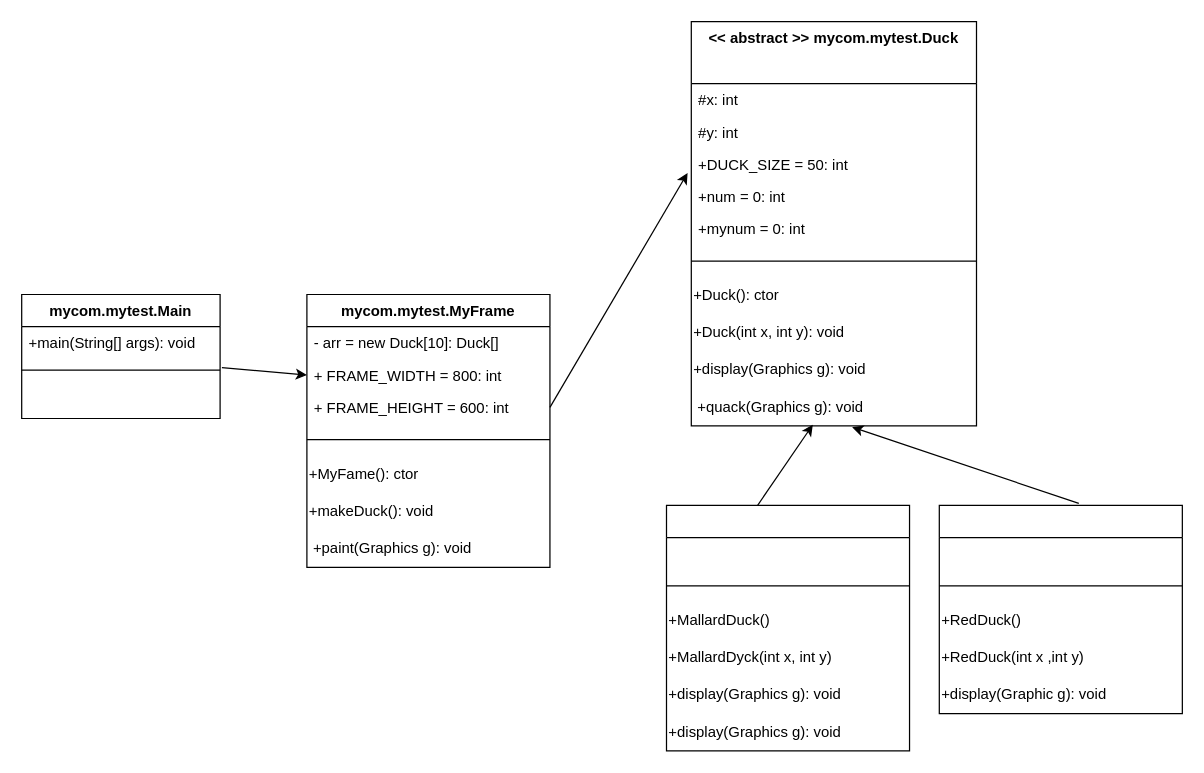
Some shapes in this 1204 by 773 pixel diagram are drawn without their labels. Each missing label, with the box of its shape:
mycom.mytest.MallardDuck: (665, 504, 910, 751)
mycom.mytest.RedDuck: (938, 504, 1182, 714)
